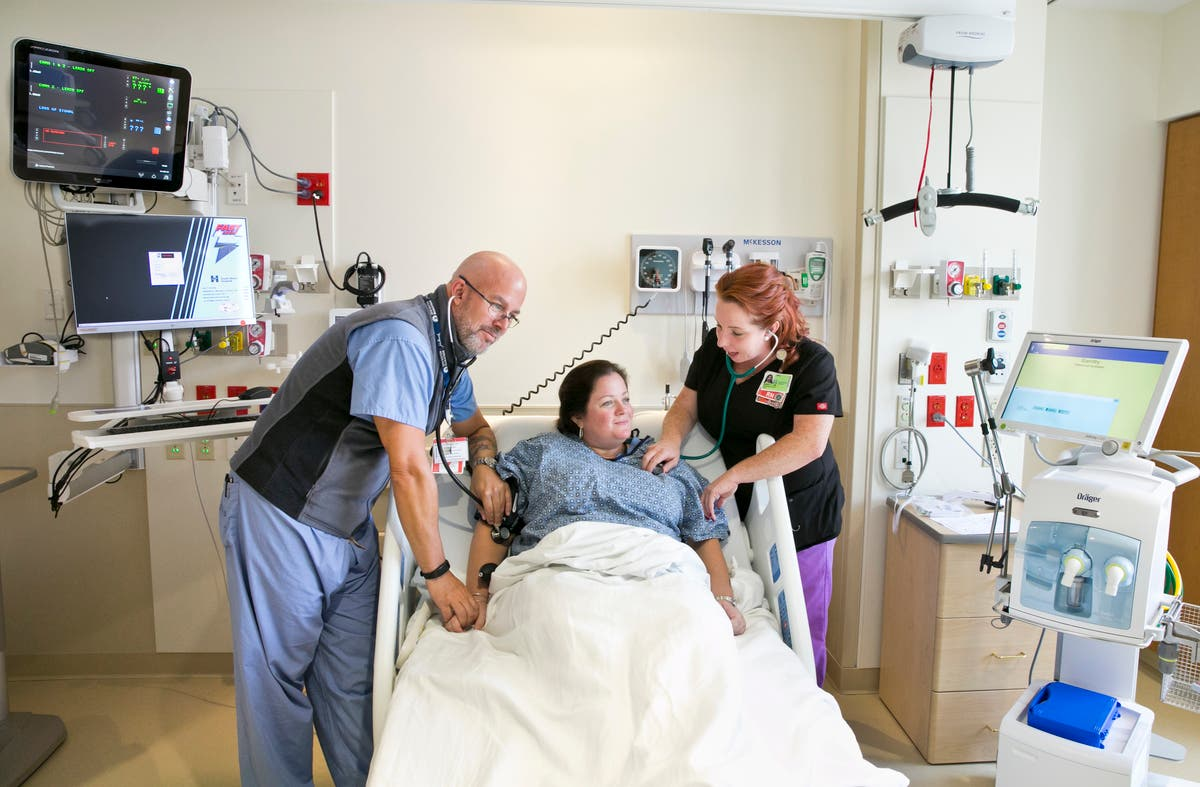bedrail: (742, 432, 817, 685), (371, 484, 415, 762)
bedside_monitor: (11, 36, 191, 194)
bedside_table: (878, 496, 1057, 768)
computer: (63, 210, 257, 333)
handle: (976, 717, 1005, 748), (989, 647, 1027, 668)
hospital_bed: (365, 410, 900, 787)
keyboard: (105, 417, 263, 435)
mouse: (239, 386, 274, 400)
patient: (441, 361, 747, 742)
staff: (218, 251, 527, 787), (643, 262, 845, 687)
ventilator: (991, 330, 1193, 787)
